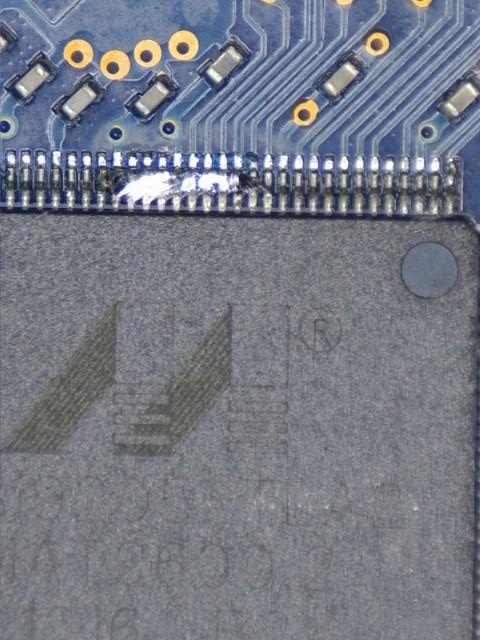pcb_defect: (97, 152, 243, 213)
